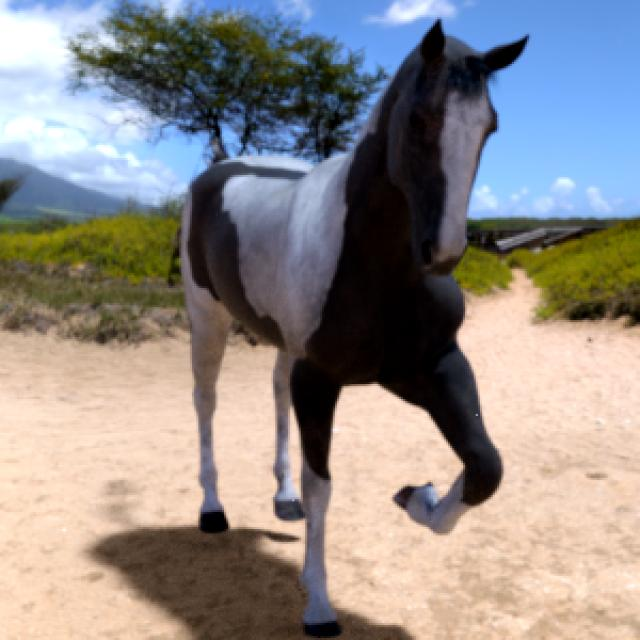horse: (181, 22, 524, 637)
